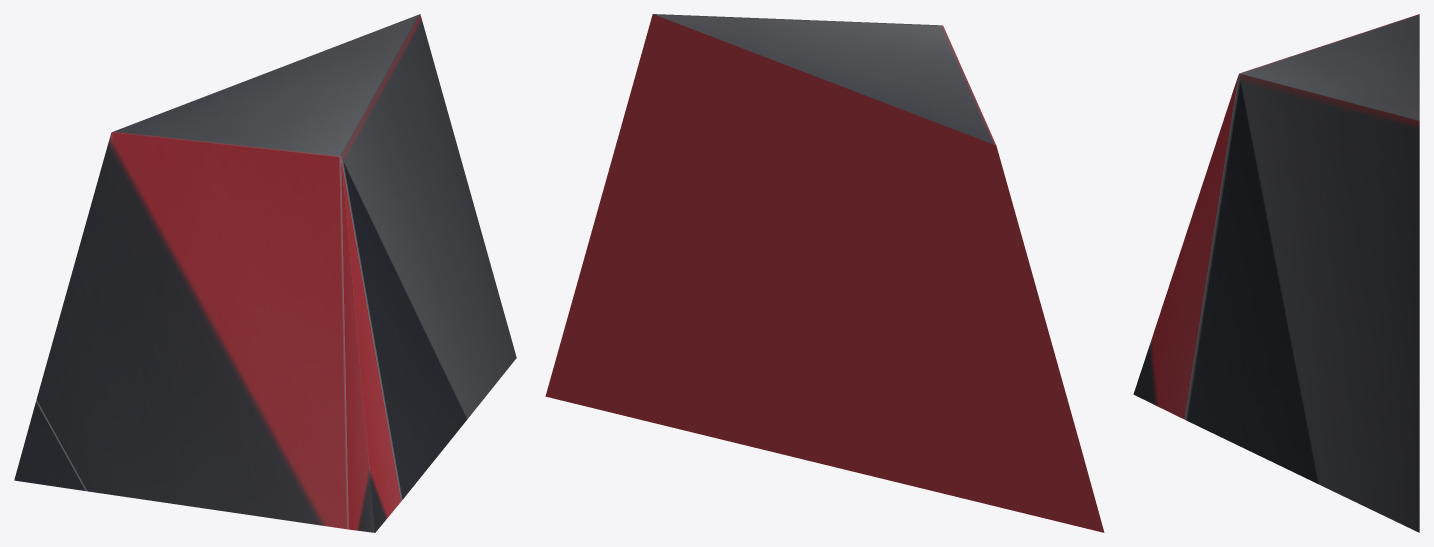
File: torii_broken_019.obj
3 views of the same model, side by side, from view 1: azimuth 30°, elevation 25°; view 2: azimuth 150°, elevation 25°; view 3: azimuth 270°, elevation 25° (orthographic). The views are drawn at different scales.
Parts seen in each view (by area): view 1: 鳥居.001_cell.019_鳥居.001_cell.009; view 2: 鳥居.001_cell.019_鳥居.001_cell.009; view 3: 鳥居.001_cell.019_鳥居.001_cell.009.
Part boxes in pixels (left/top/right/bottom): 鳥居.001_cell.019_鳥居.001_cell.009: left=14, top=14, right=516, bottom=532; 鳥居.001_cell.019_鳥居.001_cell.009: left=545, top=14, right=1104, bottom=532; 鳥居.001_cell.019_鳥居.001_cell.009: left=1133, top=14, right=1419, bottom=532.
Bounding box in the file's own units: 0.2051 × 0.1433 × 0.1018.
1 material, 1 textured.
